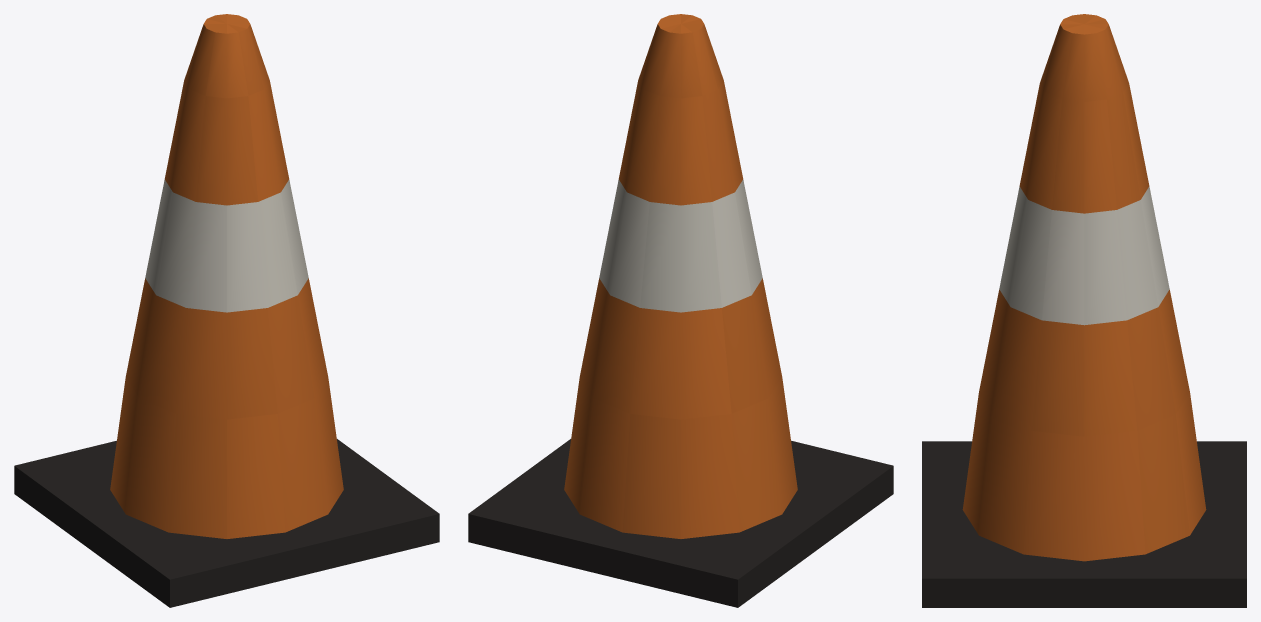
3 views of the same model, side by side, from view 1: azimuth 30°, elevation 25°; view 2: azimuth 150°, elevation 25°; view 3: azimuth 270°, elevation 25° (orthographic). The views are drawn at different scales.
Visible parts, largest first — view 1: cone; view 2: cone; view 3: cone.
Boxes of the visible parts, left/top/right/bottom form: cone: left=14, top=14, right=439, bottom=607; cone: left=468, top=14, right=893, bottom=607; cone: left=922, top=14, right=1246, bottom=607.
Bounding box in the file's own units: 0.4 × 0.7 × 0.4.
